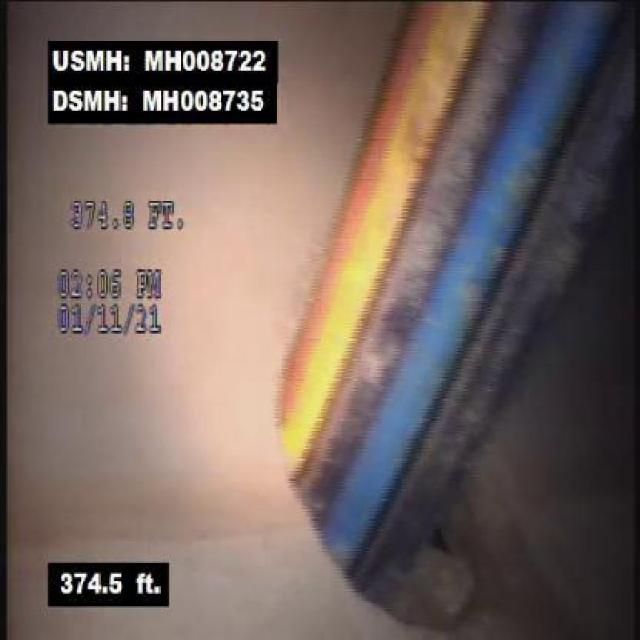Utility intrusion: (277, 0, 638, 620)
